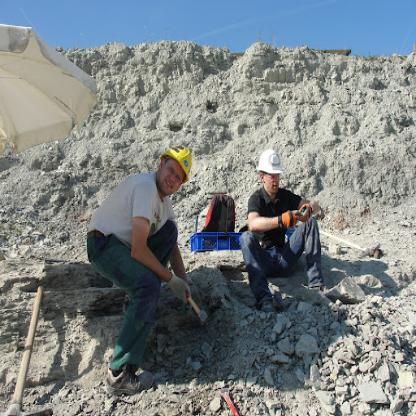person: (82, 133, 194, 390), (237, 118, 326, 317)
